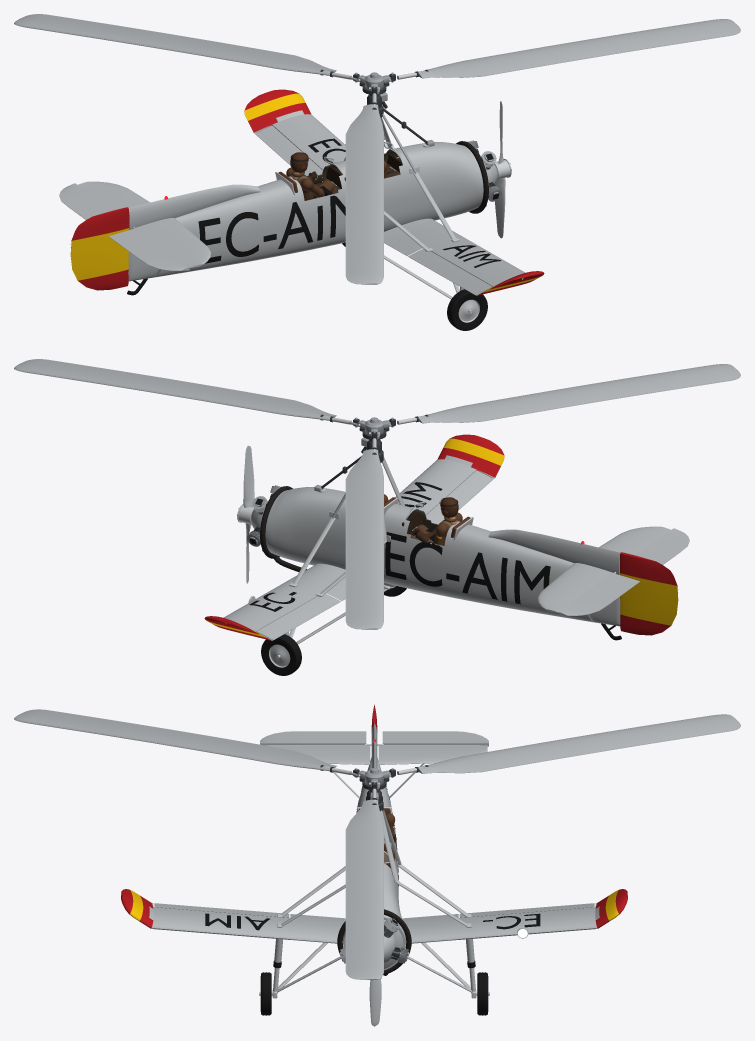
File: cierva_c19.glb
The picture shows the model from 3 angles, top to bottom: view 1: azimuth 30°, elevation 25°; view 2: azimuth 150°, elevation 25°; view 3: azimuth 270°, elevation 25°; orthographic projection.
Visible parts, largest first — view 1: airframe, rotor, rudder, elevator, aileron_R, wheel_R, aileron_L, prop, pilot_front; view 2: airframe, rotor, rudder, elevator, aileron_L, wheel_L, prop, aileron_R; view 3: airframe, rotor, elevator, aileron_L, aileron_R.
Part boxes in pixels (left/top/right/bottom): airframe: left=78, top=89, right=544, bottom=313; rotor: left=14, top=14, right=740, bottom=284; rudder: left=68, top=207, right=128, bottom=290; elevator: left=59, top=183, right=189, bottom=270; aileron_R: left=408, top=248, right=492, bottom=295; wheel_R: left=447, top=289, right=487, bottom=330; aileron_L: left=255, top=125, right=322, bottom=177; prop: left=494, top=101, right=511, bottom=238; pilot_front: left=289, top=152, right=313, bottom=200; airframe: left=204, top=434, right=670, bottom=658; rotor: left=14, top=359, right=740, bottom=629; rudder: left=620, top=552, right=680, bottom=635; elevator: left=559, top=528, right=689, bottom=615; aileron_L: left=256, top=593, right=340, bottom=640; wheel_L: left=261, top=634, right=301, bottom=675; prop: left=237, top=445, right=254, bottom=583; aileron_R: left=426, top=470, right=493, bottom=524; airframe: left=121, top=723, right=627, bottom=998; rotor: left=14, top=709, right=740, bottom=980; elevator: left=260, top=731, right=488, bottom=746; aileron_L: left=459, top=903, right=594, bottom=917; aileron_R: left=154, top=903, right=289, bottom=917.
Size of the model in its own units: 9.57 by 3.11 by 9.07.
